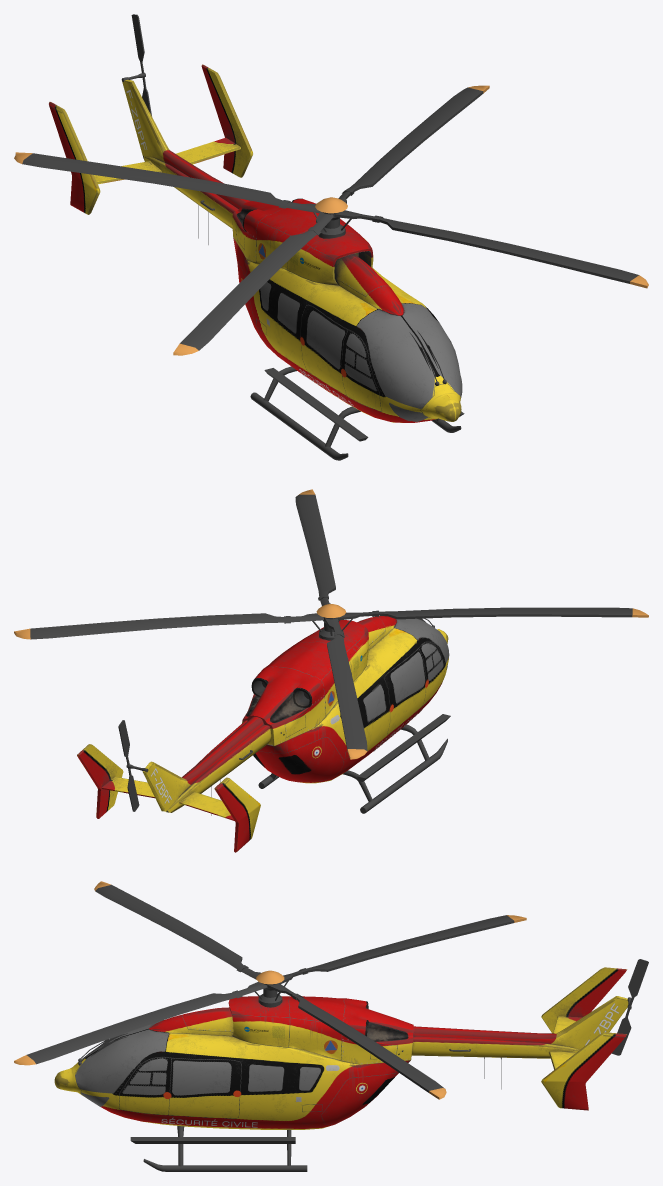
The model's file is helicopter.glb.
3 renders of one model, top to bottom at view 1: azimuth 30°, elevation 25°; view 2: azimuth 150°, elevation 25°; view 3: azimuth 270°, elevation 25°, orthographic. The views are drawn at different scales.
Parts seen in each view (by area): view 1: Plane, Plane.001, Plane.005, Plane.004, Plane.002, Plane.003, Circle.005, Cube, Circle; view 2: Plane, Plane.001, Plane.003, Plane.004, Plane.005, Plane.002, Circle.005, Cube, Circle.001, Circle; view 3: Plane, Plane.001, Plane.002, Plane.004, Plane.003, Plane.005, Cube, Circle.005, Circle.001, Circle.
Boxes of the visible parts, x1,y1,x2,y2 form: Plane: (122,79,462,422); Plane.001: (49,64,252,214); Plane.005: (14,152,320,217); Plane.004: (173,212,333,355); Plane.002: (334,210,648,288); Plane.003: (338,85,489,203); Circle.005: (250,392,461,460); Cube: (264,368,464,441); Circle: (315,197,347,238); Plane: (142,616,449,812); Plane.001: (77,744,260,852); Plane.003: (14,613,323,639); Plane.004: (338,607,648,631); Plane.005: (325,618,367,759); Plane.002: (295,489,335,605); Circle.005: (258,738,447,813); Cube: (357,714,450,781); Circle.001: (118,720,139,811); Circle: (316,604,346,640); Plane: (54,996,628,1129); Plane.001: (541,967,627,1110); Plane.002: (14,981,267,1065); Plane.004: (94,881,260,979); Plane.003: (268,983,446,1099); Plane.005: (279,915,526,994); Cube: (130,1137,295,1143); Circle.005: (143,1159,307,1171); Circle.001: (611,959,648,1055); Circle: (256,970,284,1007).
Size of the model in its own units: 9.07 by 3.84 by 11.23.
Materials: 4 (2 with a texture image).
